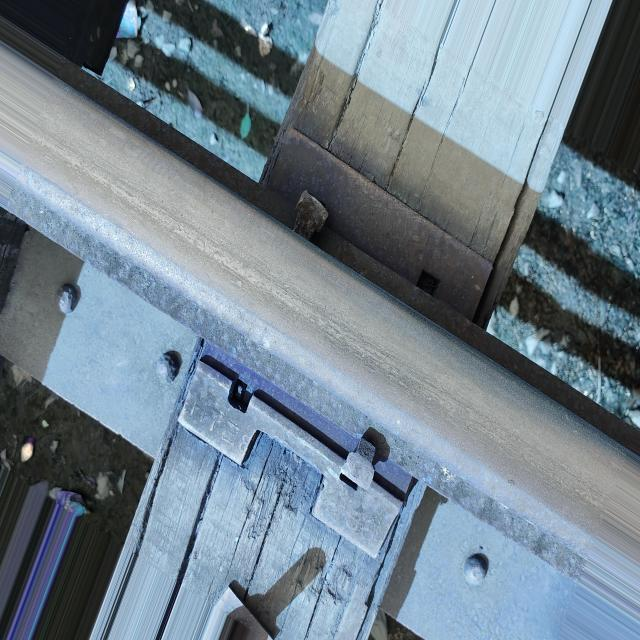Missing Dogscrew: (228, 379, 253, 412), (417, 270, 439, 295)
